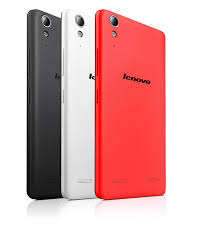lenovo: (92, 8, 167, 200)
